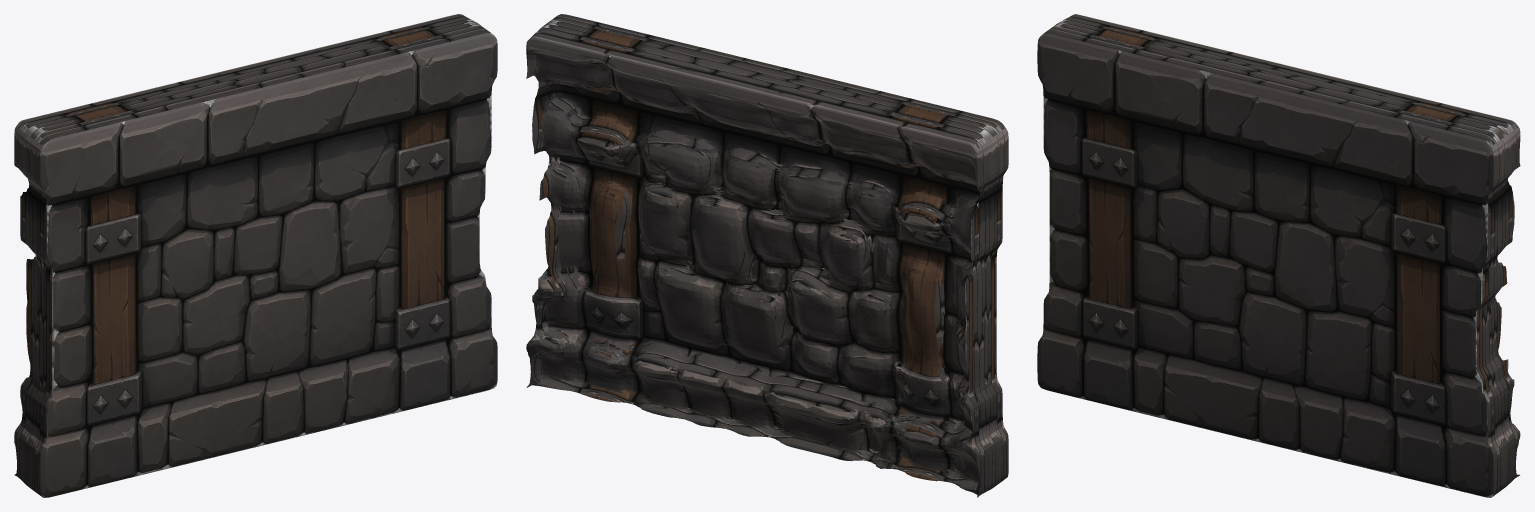
The model's file is SM_Dungeon_Wall_A.glb.
The picture shows the model from 3 angles, left to right: view 1: azimuth 30°, elevation 25°; view 2: azimuth 150°, elevation 25°; view 3: azimuth 330°, elevation 25°; orthographic projection.
Parts seen in each view (by area): view 1: SM_Dungeon_Wall_A_Raw; view 2: SM_Dungeon_Wall_A_Raw; view 3: SM_Dungeon_Wall_A_Raw.
Boxes of the visible parts, left/top/right/bottom form: SM_Dungeon_Wall_A_Raw: left=14, top=14, right=497, bottom=497; SM_Dungeon_Wall_A_Raw: left=526, top=14, right=1008, bottom=497; SM_Dungeon_Wall_A_Raw: left=1037, top=14, right=1520, bottom=497.
Bounding box in the file's own units: 4 × 3 × 0.45.
Materials: 1 (1 with a texture image).
